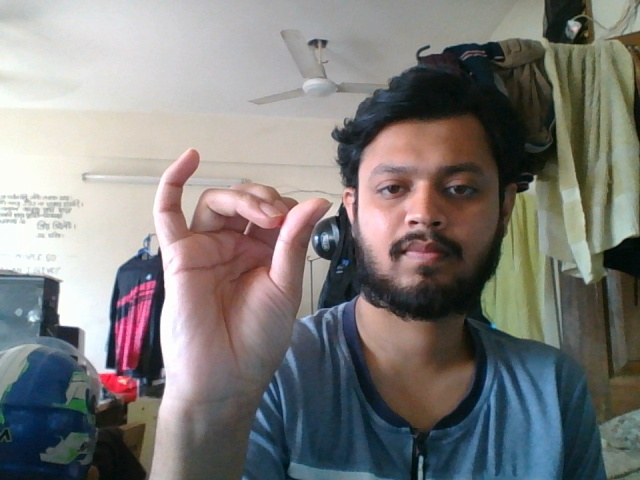oi: (145, 141, 331, 442)
